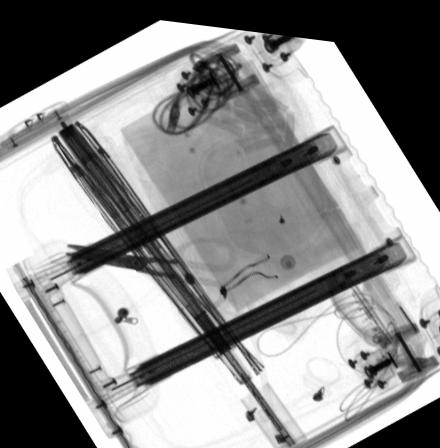Scissors: (62, 228, 236, 310)
